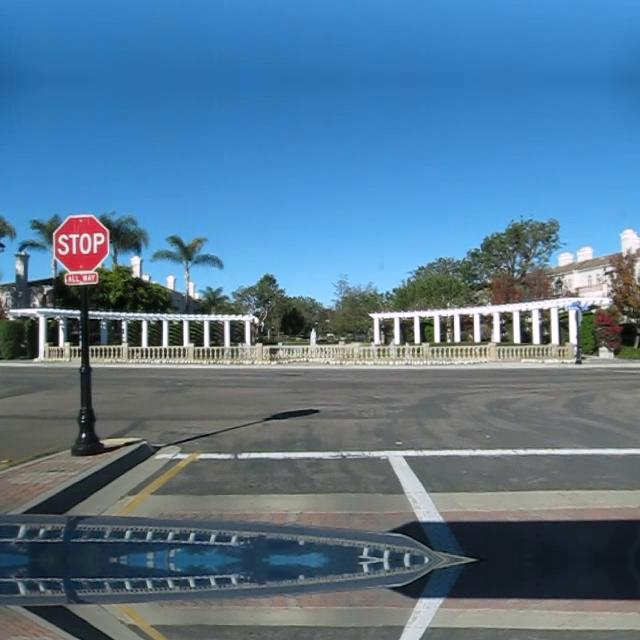stop: (52, 214, 108, 272)
